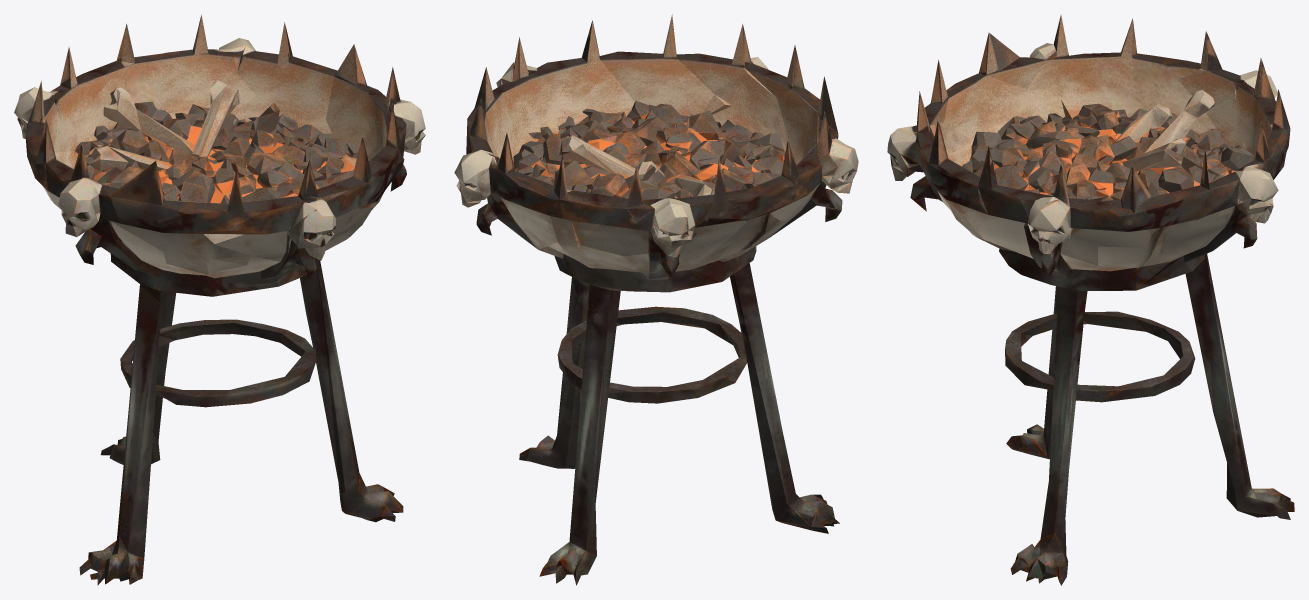
File: prop_brazier.glb
The picture shows the model from 3 angles, left to right: view 1: azimuth 30°, elevation 25°; view 2: azimuth 150°, elevation 25°; view 3: azimuth 270°, elevation 25°; orthographic projection. The views are drawn at different scales.
Visible parts, largest first — view 1: Brazier; view 2: Brazier; view 3: Brazier.
Part boxes in pixels (box(x1,y1,x2,y2)): Brazier: box(14, 14, 425, 585); Brazier: box(454, 14, 858, 585); Brazier: box(887, 14, 1294, 585).
Size of the model in its own units: 1.31 by 1.5 by 1.3.
1 material, 1 textured.
